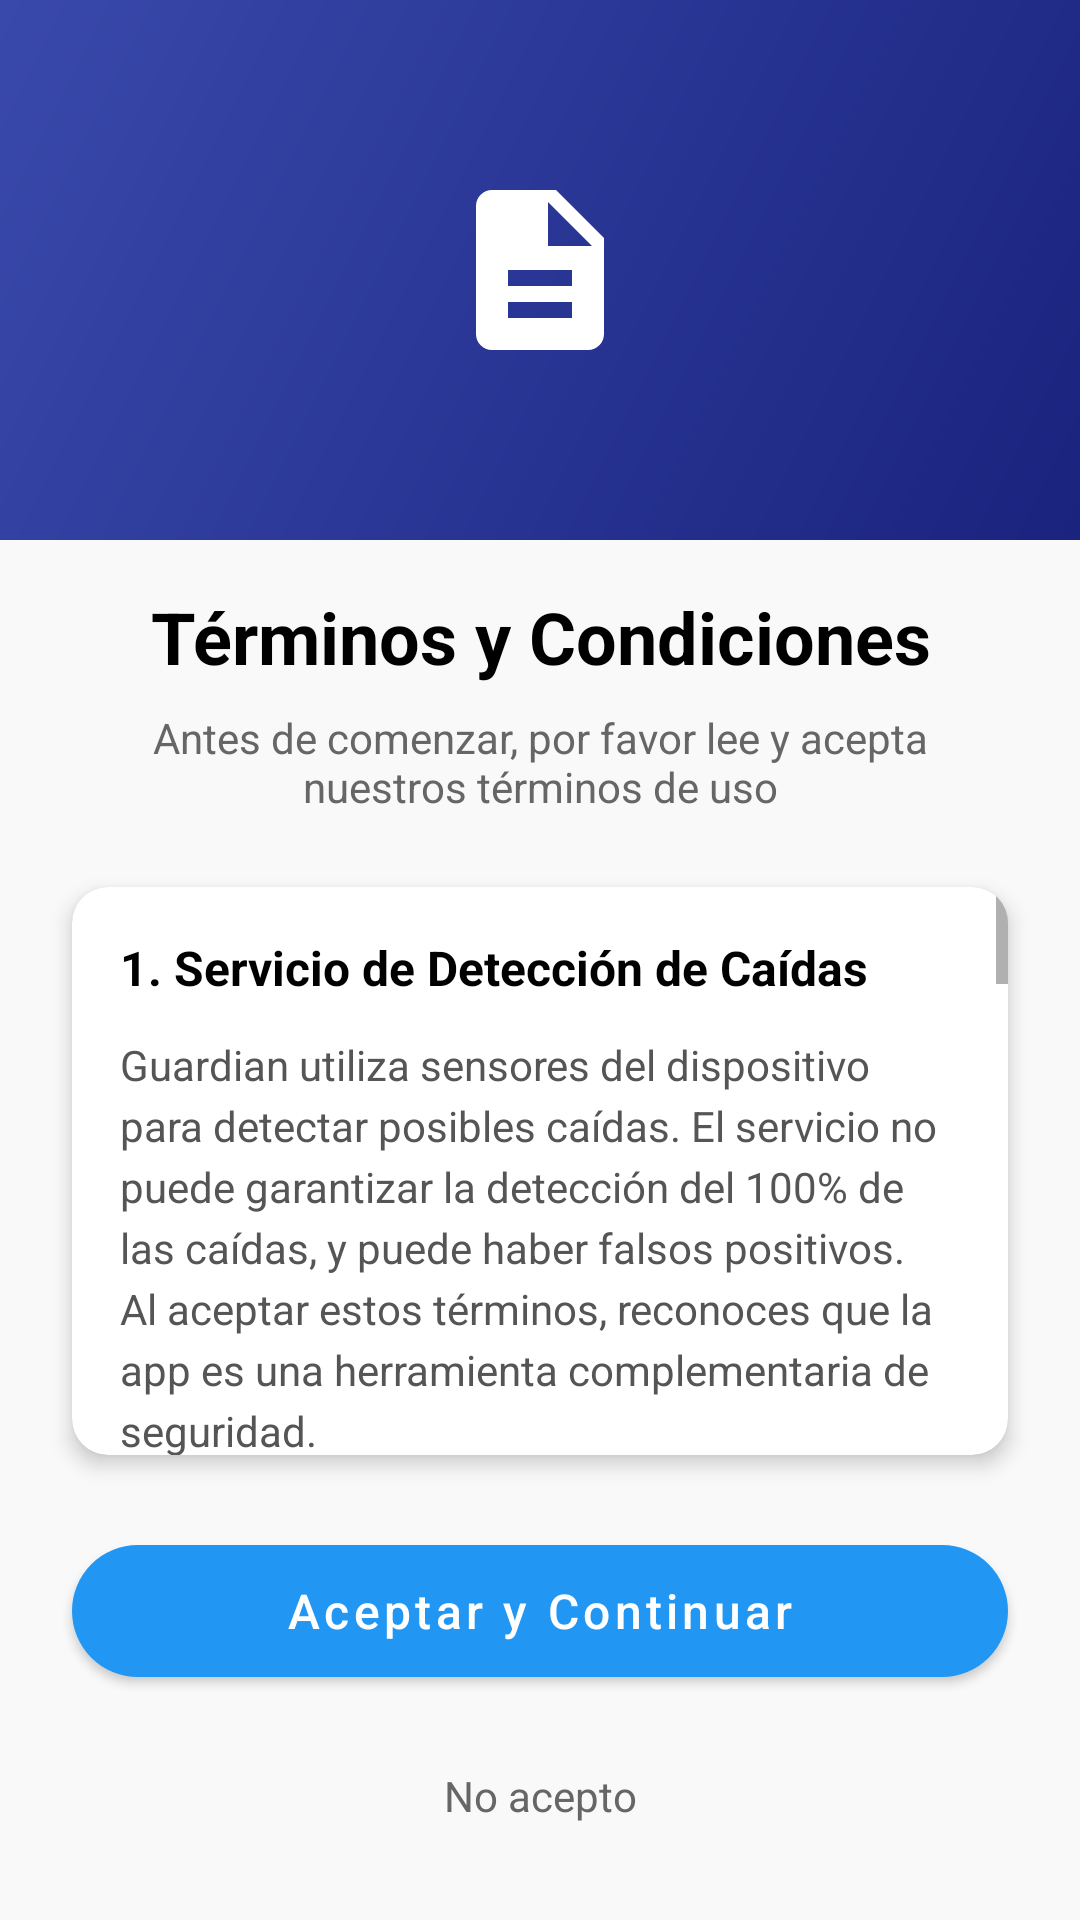

Named icons in this screenshot (1080×1920) and their centers, [x,y]:
document legal: [540,270]
